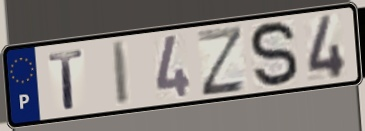4: (305, 13, 349, 81), (153, 32, 193, 101)
I: (110, 39, 132, 108)
S: (247, 18, 301, 91)
T: (46, 47, 87, 112)
Z: (195, 23, 247, 99)
